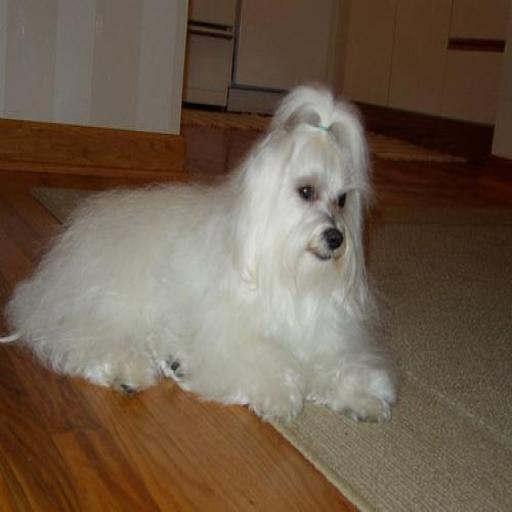dog_face: (254, 86, 368, 289)
